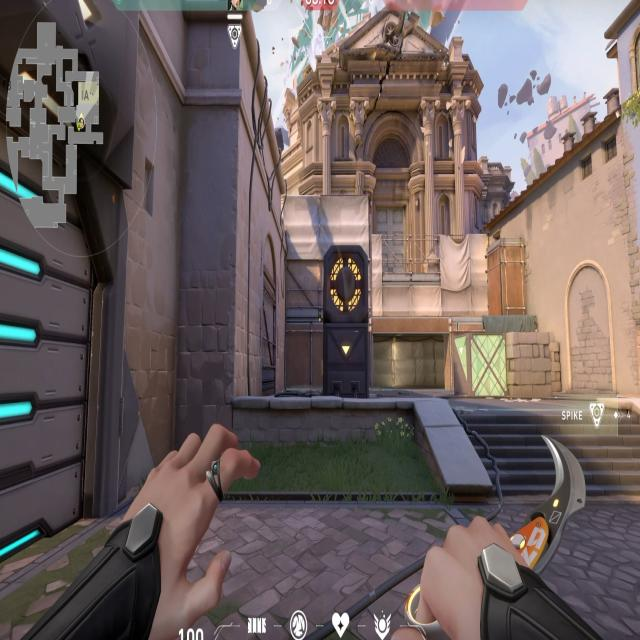A_Heaven_Box: (483, 230, 536, 322)
A_Heaven_Wall: (282, 179, 381, 292)
A_Hell: (370, 306, 453, 396)
A_Site_Box: (446, 322, 556, 402)
